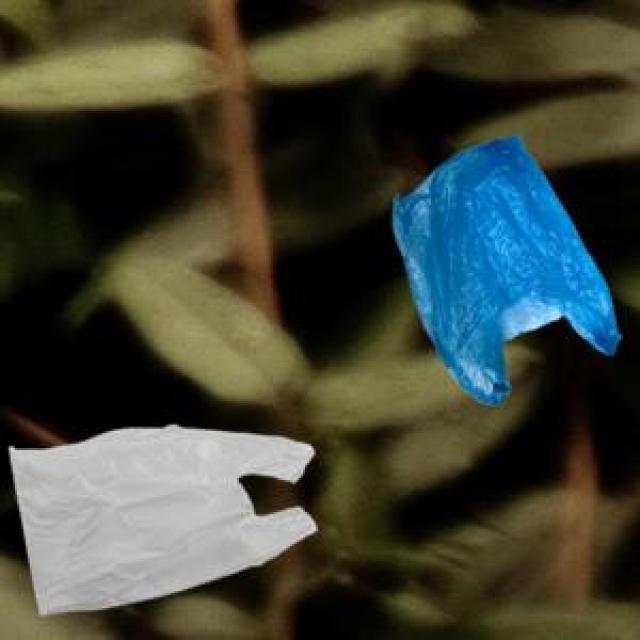Bolsa-de-nilon: (395, 135, 624, 407), (8, 424, 320, 618)
